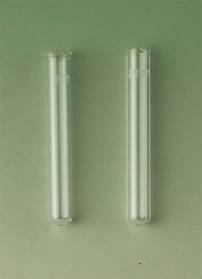Test tube: (112, 35, 162, 225), (40, 43, 77, 233)
